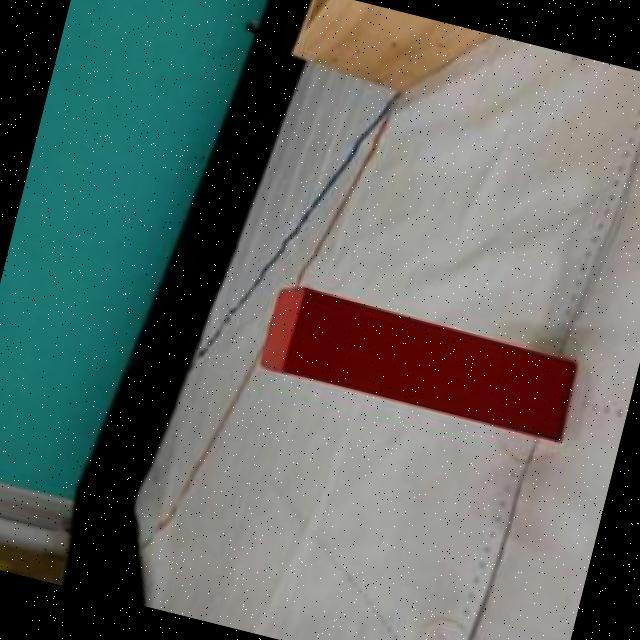redbox: (253, 276, 586, 443)
